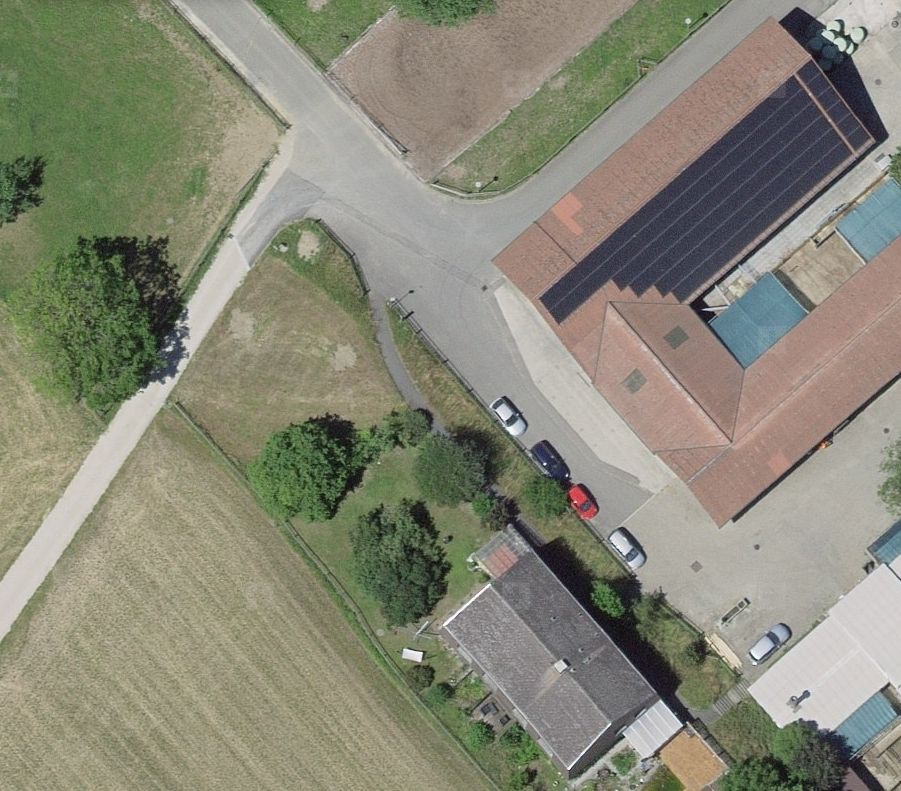solar: (540, 59, 876, 326)
